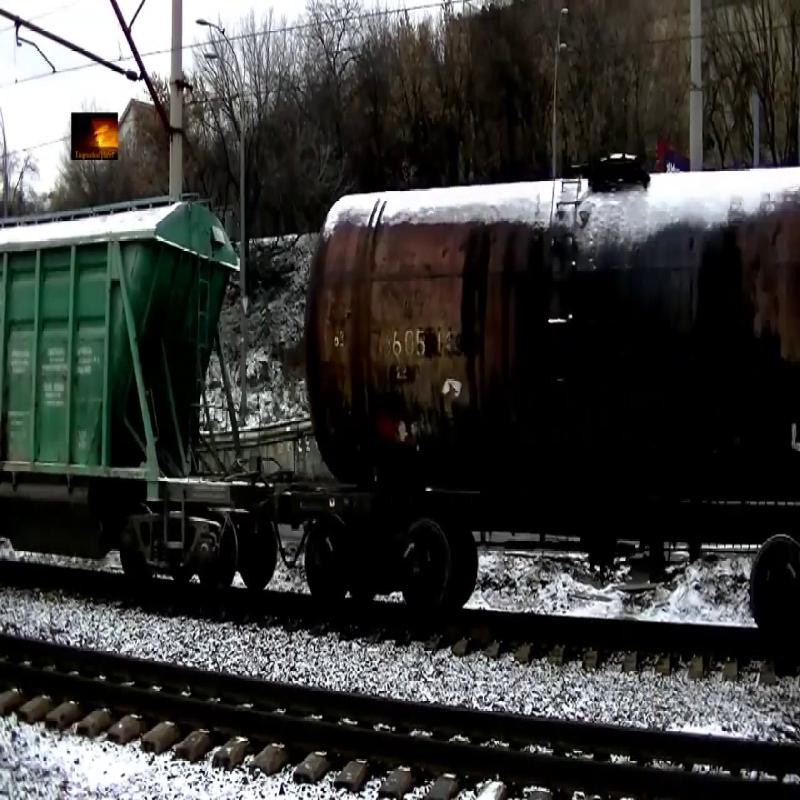train: (303, 143, 800, 552), (1, 185, 250, 535)
